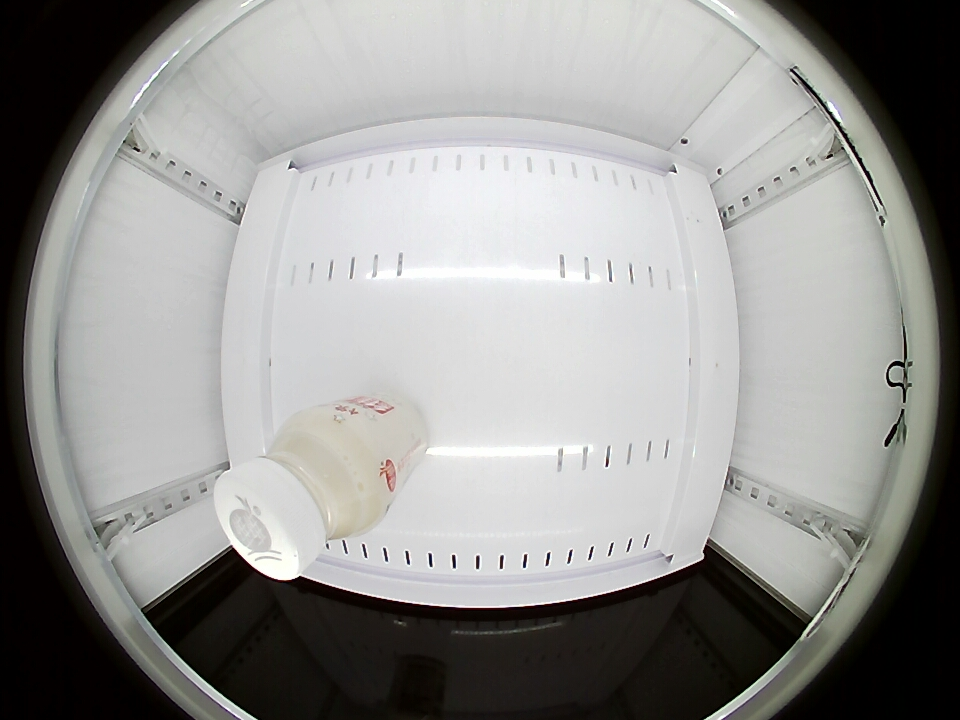weiweidounai: (214, 409, 386, 581)
